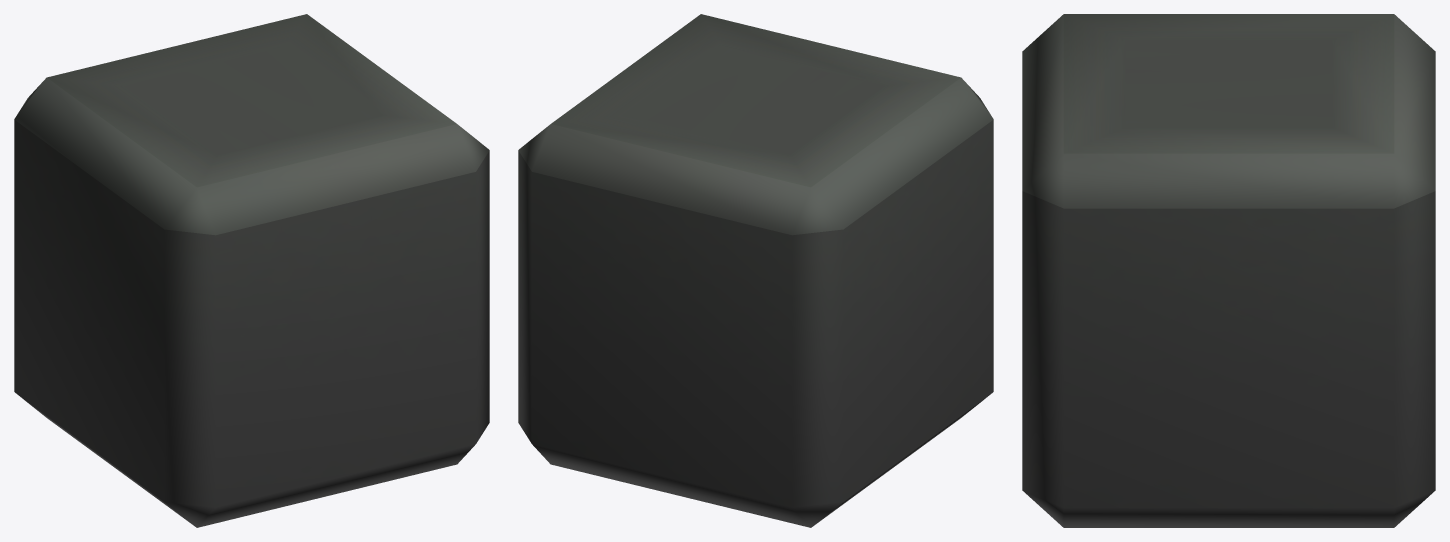
File: island_x1.fbx
The picture shows the model from 3 angles, left to right: view 1: azimuth 30°, elevation 25°; view 2: azimuth 150°, elevation 25°; view 3: azimuth 270°, elevation 25°; orthographic projection. The views are drawn at different scales.
Visible parts, largest first — view 1: island_x1; view 2: island_x1; view 3: island_x1.
Boxes of the visible parts, box(x1,y1,x2,y2) form: island_x1: box(14, 14, 489, 527); island_x1: box(518, 14, 993, 527); island_x1: box(1022, 14, 1435, 527).
Bounding box in the file's own units: 200 × 200 × 200.
Materials: 1 (1 with a texture image).
